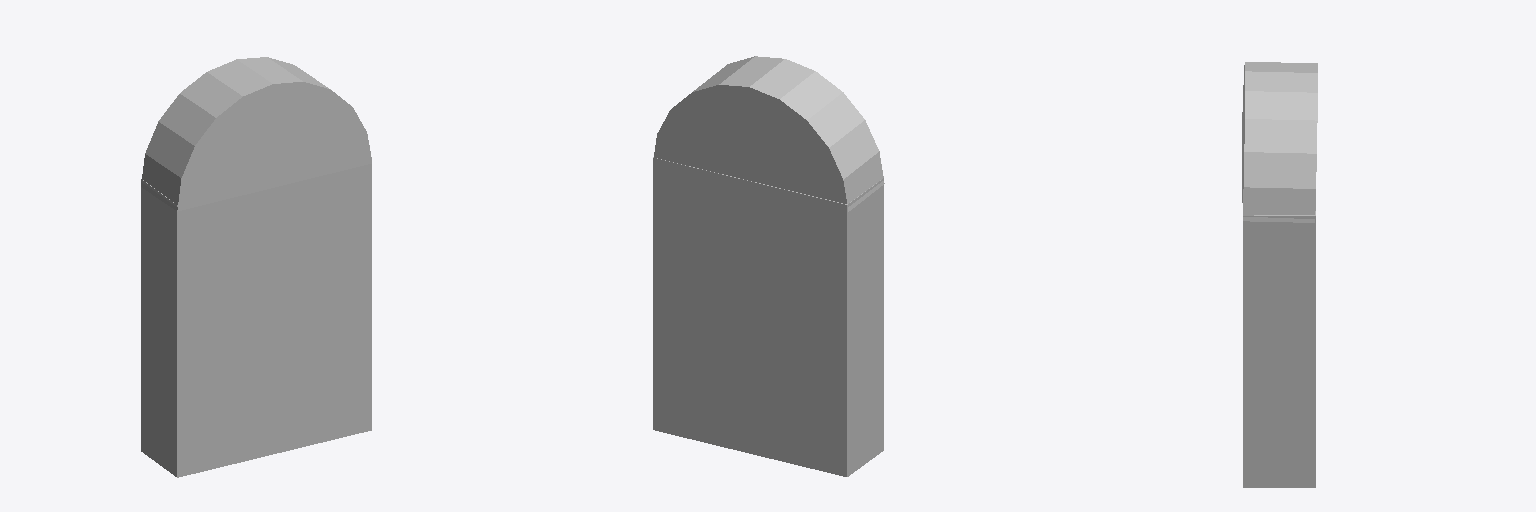
Rendered from tombstone.obj.
The picture shows the model from 3 angles: view 1: azimuth 30°, elevation 25°; view 2: azimuth 150°, elevation 25°; view 3: azimuth 270°, elevation 25°; orthographic projection.
Parts seen in each view (by area): view 1: tombstone_1:pCylinder2; view 2: tombstone_1:pCylinder2; view 3: tombstone_1:pCylinder2.
Part boxes in pixels (bbox=[...]): tombstone_1:pCylinder2: bbox=[141, 57, 371, 477]; tombstone_1:pCylinder2: bbox=[653, 56, 884, 476]; tombstone_1:pCylinder2: bbox=[1242, 62, 1317, 487].
Size of the model in its own units: 0.5858 by 1.06 by 0.1967.